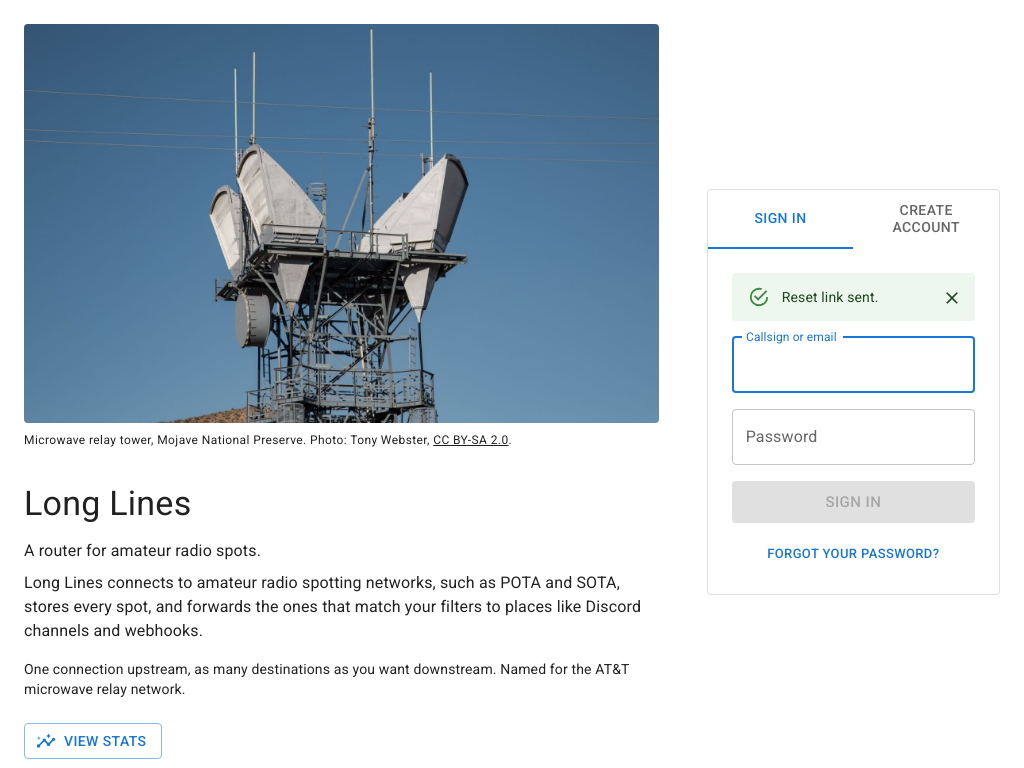
it: SignInPage: sign in › shows a notice from navigation state and lets the user dismiss it
The width and height of the screenshot is (1024, 768).
Expected: the text "Reset link sent." is shown, [782, 289, 879, 305]
Click the button named "Close" at (952, 298), box [937, 283, 967, 313]
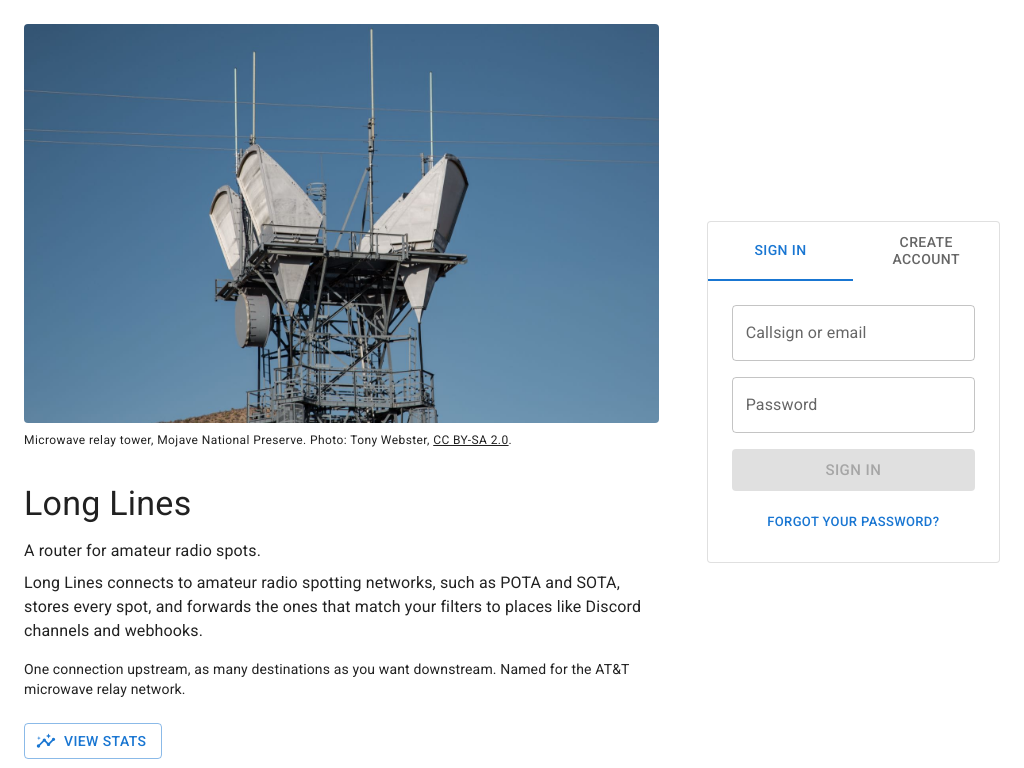
Now the text "Reset link sent." is gone
